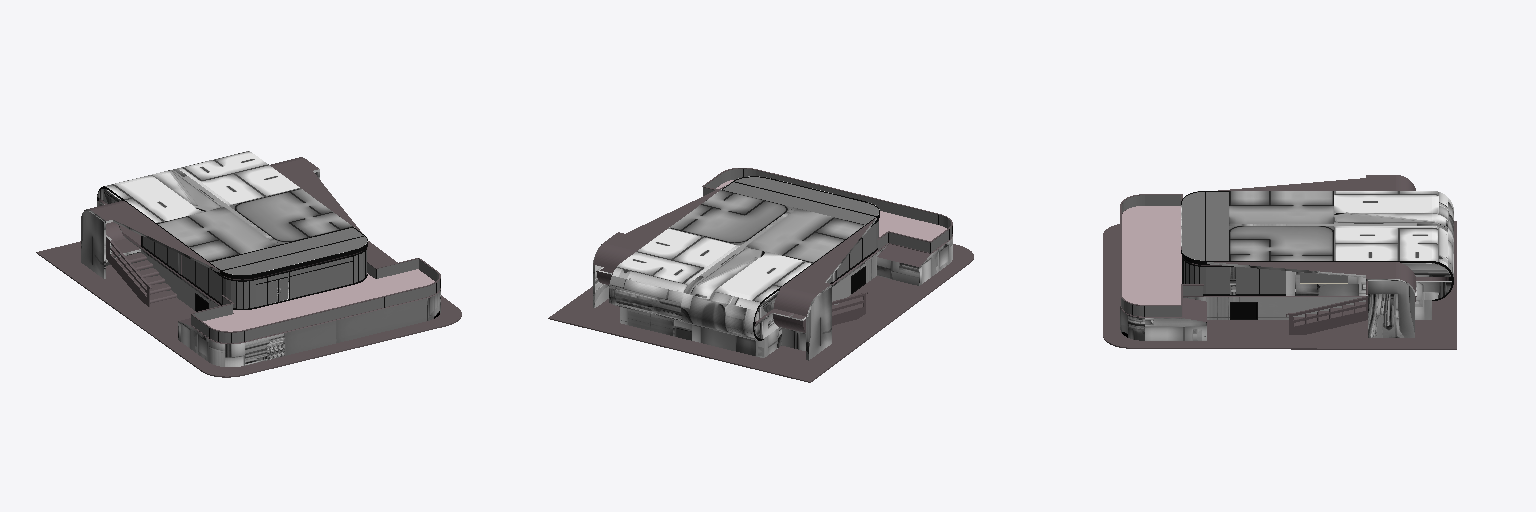
3 renders of one model, left to right at view 1: azimuth 30°, elevation 25°; view 2: azimuth 150°, elevation 25°; view 3: azimuth 270°, elevation 25°, orthographic.
Visible parts, largest first — view 1: Walls_outside_Plane.036, FLoor_white_Plane.024, Glas_Cube.003, Tiles_outside_1_Plane.035, Metal_1_Plane.033, Cube.009_Cube.001; view 2: Walls_outside_Plane.036, FLoor_white_Plane.024, Glas_Cube.003, Tiles_outside_1_Plane.035, Metal_1_Plane.033; view 3: Walls_outside_Plane.036, FLoor_white_Plane.024, Glas_Cube.003, Tiles_outside_1_Plane.035, Metal_1_Plane.033.
Boxes of the visible parts, x1,y1,x2,y2 form: Walls_outside_Plane.036: [81, 151, 440, 366]; FLoor_white_Plane.024: [36, 157, 461, 377]; Glas_Cube.003: [143, 228, 439, 342]; Tiles_outside_1_Plane.035: [203, 269, 434, 331]; Metal_1_Plane.033: [97, 186, 440, 342]; Cube.009_Cube.001: [267, 277, 289, 305]; Walls_outside_Plane.036: [593, 176, 952, 360]; FLoor_white_Plane.024: [548, 168, 973, 382]; Glas_Cube.003: [703, 169, 951, 283]; Tiles_outside_1_Plane.035: [716, 180, 946, 240]; Metal_1_Plane.033: [722, 169, 952, 340]; Walls_outside_Plane.036: [1120, 191, 1453, 340]; FLoor_white_Plane.024: [1103, 175, 1456, 349]; Glas_Cube.003: [1121, 192, 1347, 316]; Tiles_outside_1_Plane.035: [1122, 206, 1181, 304]; Metal_1_Plane.033: [1132, 191, 1453, 319].
Bounding box in the file's own units: 2.48 × 0.546 × 2.9.
29 materials, 1 textured.